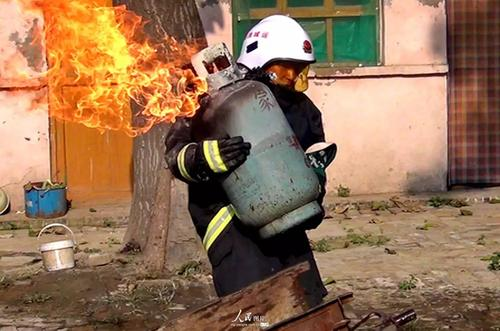fire: (14, 4, 193, 129)
